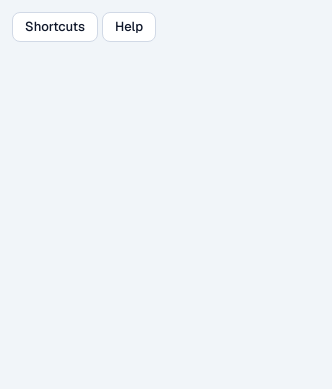
ToolToolbar › toggles the shortcuts dropdown
Step 1. Click the button with aria-label "view keyboard shortcuts" → (55, 27), box [12, 12, 98, 42]
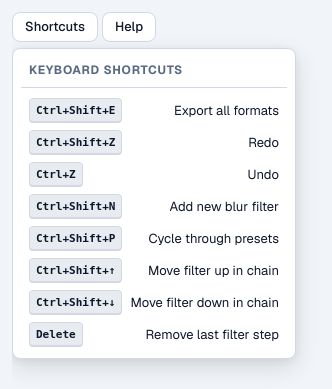
Expected: the menu with class "shortcuts-dropdown" is shown
Step 2. Click the button with aria-label "close keyboard shortcuts" → (55, 27), box [12, 12, 98, 42]
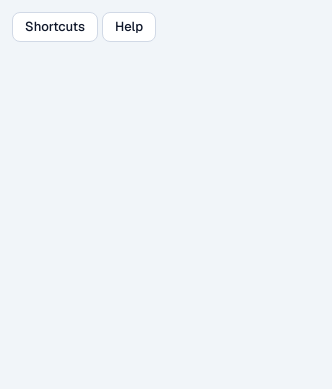
Expected: the menu with class "shortcuts-dropdown" is gone
